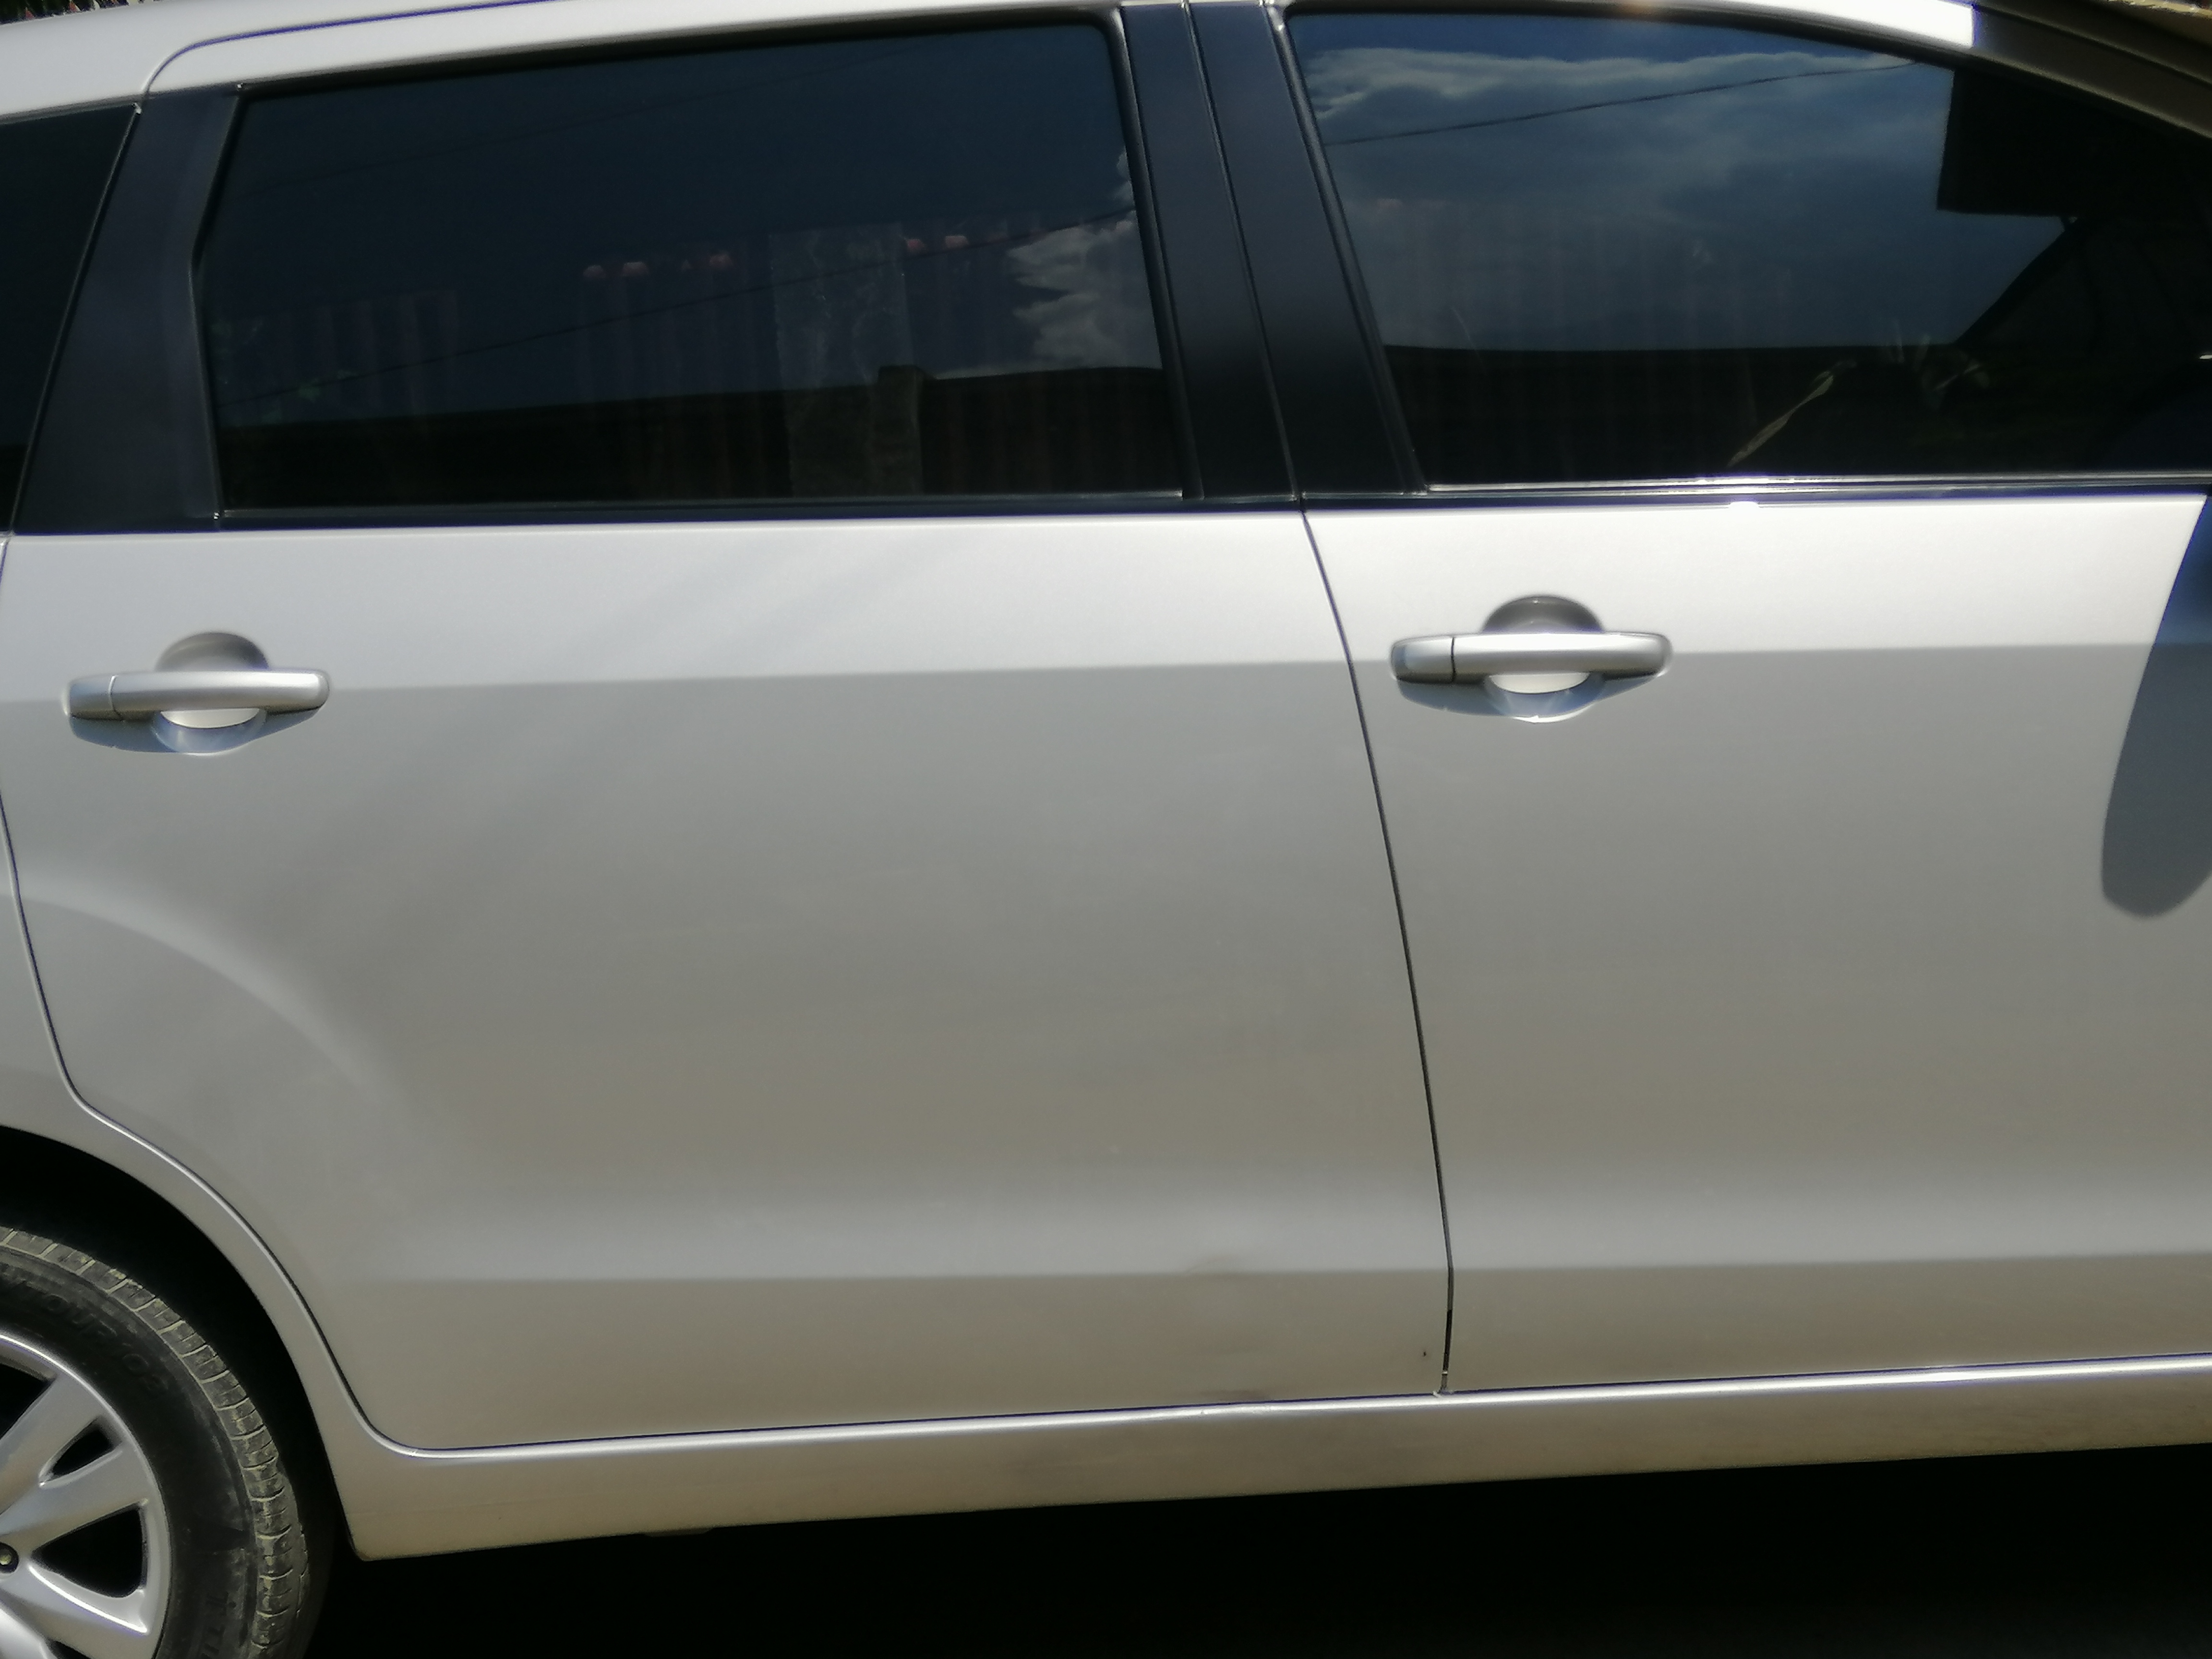car: (5, 12, 2212, 1558)
